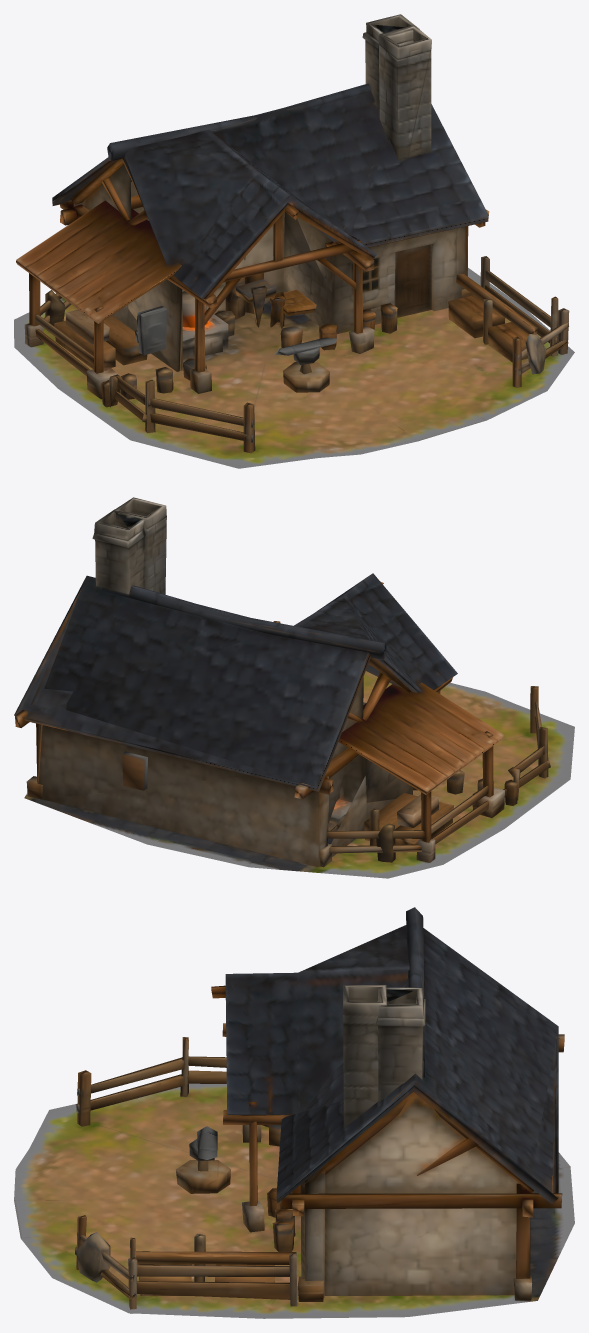
Rendered from blacksmith.glb.
3 views of the same model, one above another, from view 1: azimuth 30°, elevation 25°; view 2: azimuth 150°, elevation 25°; view 3: azimuth 270°, elevation 25° (orthographic). The views are drawn at different scales.
Parts seen in each view (by area): view 1: geometry_0; view 2: geometry_0; view 3: geometry_0.
Boxes of the visible parts, x1,y1,x2,y2 form: geometry_0: (14, 14, 574, 468); geometry_0: (14, 497, 574, 878); geometry_0: (14, 907, 574, 1318).
Bounding box in the file's own units: 1 × 0.5741 × 0.9989.
Materials: 1 (1 with a texture image).
